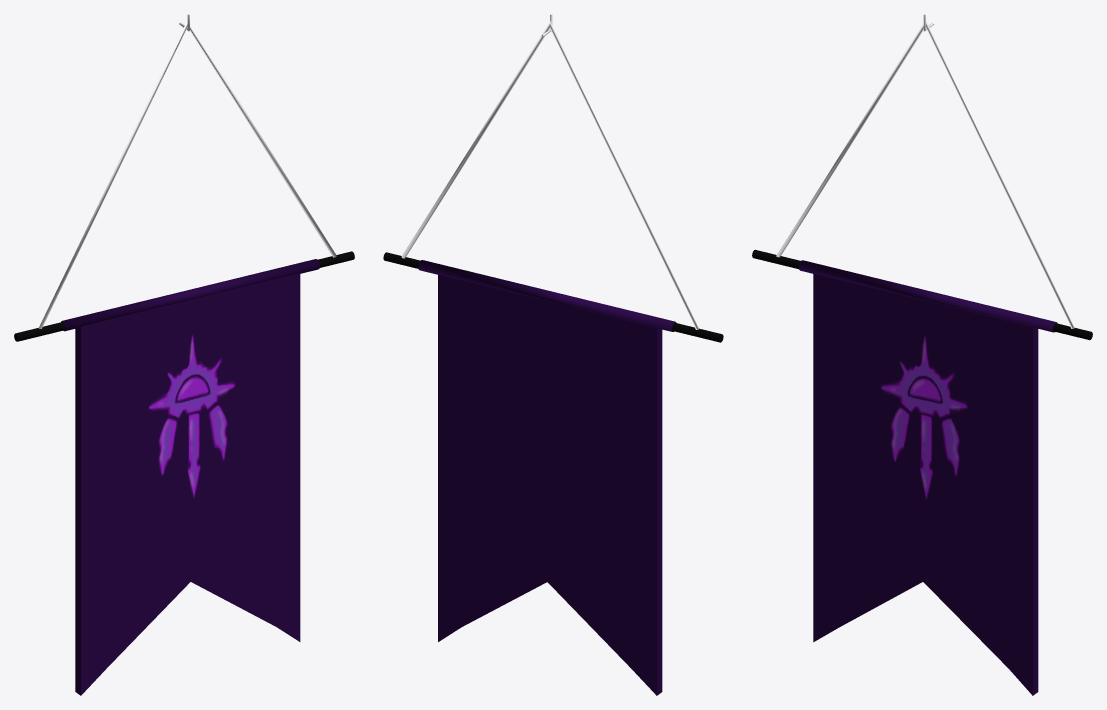
File: flag 2.fbx
3 views of the same model, side by side, from view 1: azimuth 30°, elevation 25°; view 2: azimuth 150°, elevation 25°; view 3: azimuth 330°, elevation 25° (orthographic).
Visible parts, largest first — view 1: Flag; view 2: Flag; view 3: Flag.
Boxes of the visible parts, bbox=[...] form: Flag: bbox=[14, 14, 354, 695]; Flag: bbox=[383, 14, 723, 695]; Flag: bbox=[752, 14, 1092, 695].
Size of the model in its own units: 29.81 by 55.31 by 1.6.
